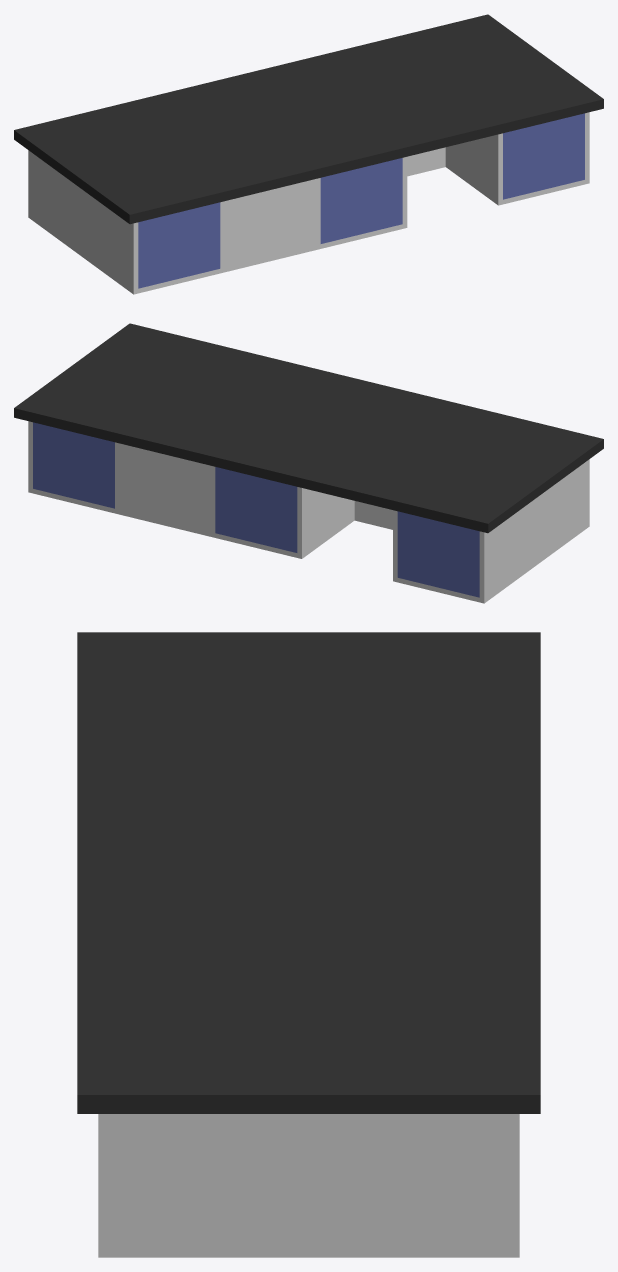
Rendered from ScienceDesk.fbx.
The picture shows the model from 3 angles, top to bottom: view 1: azimuth 30°, elevation 25°; view 2: azimuth 150°, elevation 25°; view 3: azimuth 270°, elevation 25°; orthographic projection. The views are drawn at different scales.
Visible parts, largest first — view 1: Cube.002; view 2: Cube.002; view 3: Cube.002.
Part boxes in pixels (x1,y1,x2,y2): Cube.002: (14, 14, 603, 294); Cube.002: (14, 323, 603, 603); Cube.002: (77, 632, 540, 1257).
Bounding box in the file's own units: 520 × 90 × 220.
